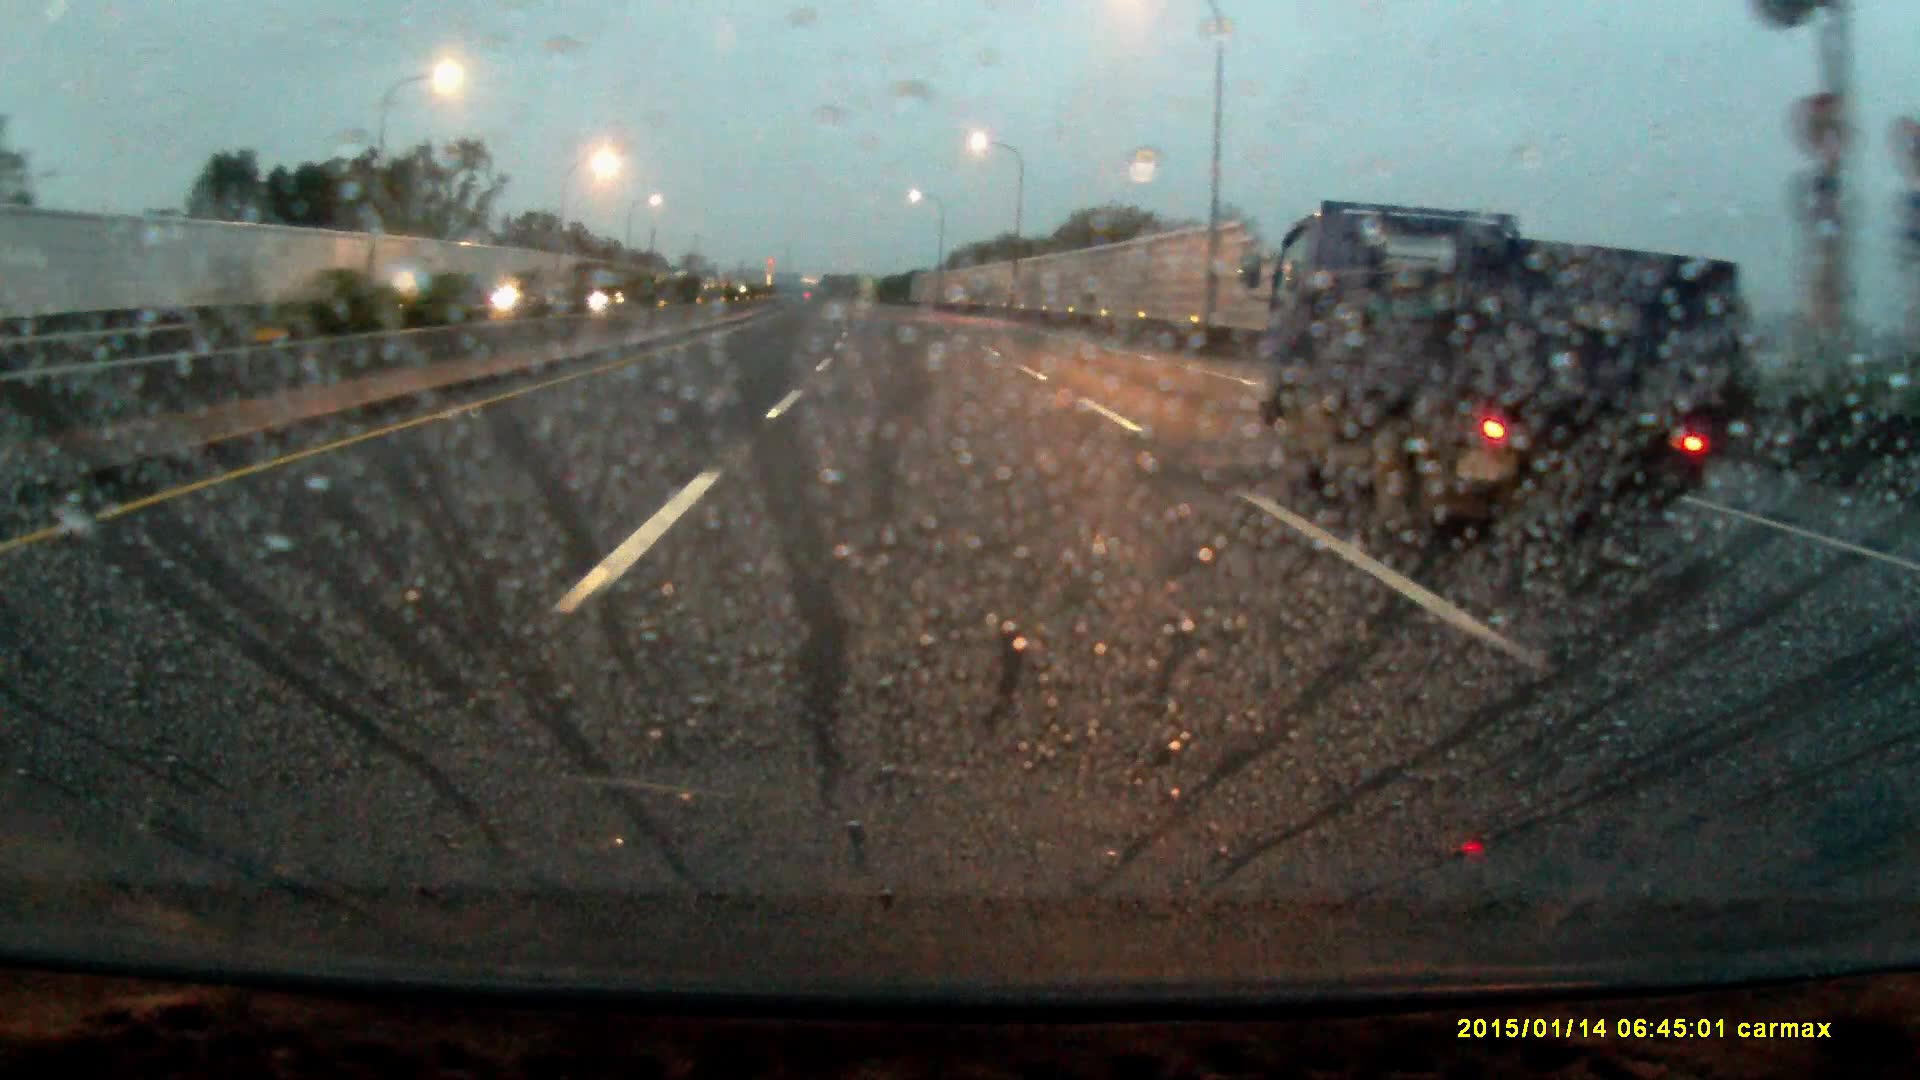vehicle: (1240, 200, 1758, 549)
